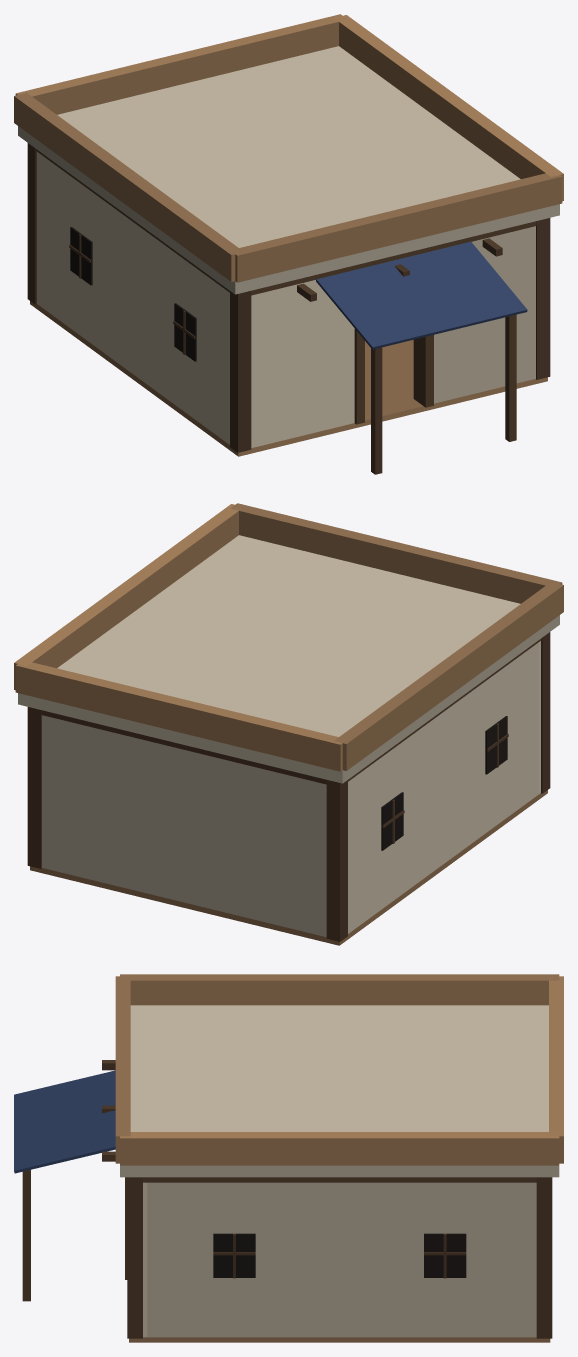
File: walk_sunborn_house.glb
3 renders of one model, top to bottom at view 1: azimuth 30°, elevation 25°; view 2: azimuth 150°, elevation 25°; view 3: azimuth 270°, elevation 25°, orthographic.
Visible parts, largest first — view 1: walk_sunborn_house_roof, walk_sunborn_house; view 2: walk_sunborn_house_roof, walk_sunborn_house; view 3: walk_sunborn_house_roof, walk_sunborn_house.
Boxes of the visible parts, x1,y1,x2,y2 form: walk_sunborn_house_roof: [14, 14, 563, 294]; walk_sunborn_house: [27, 143, 550, 474]; walk_sunborn_house_roof: [14, 503, 563, 783]; walk_sunborn_house: [27, 632, 550, 945]; walk_sunborn_house_roof: [115, 974, 563, 1177]; walk_sunborn_house: [14, 1060, 552, 1342].
Size of what is drawn, in the model's own units: 6.45 by 3.85 by 9.14.
Materials: 2 (2 with a texture image).
